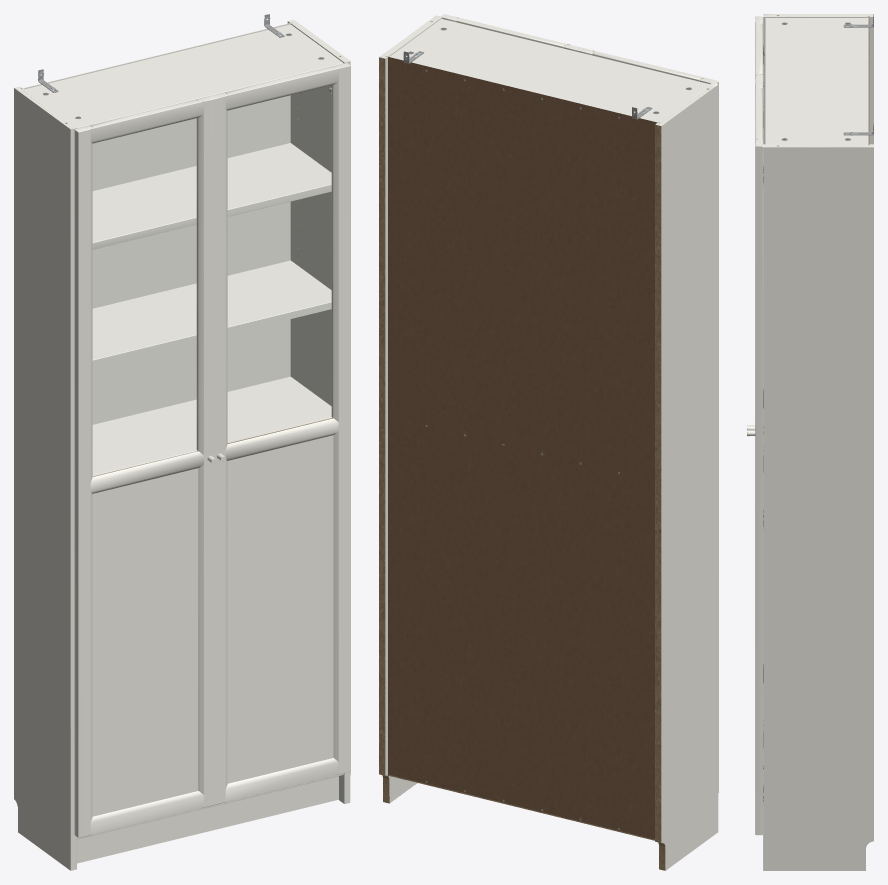
The model's file is 25 - BILLY OXBERG Bookcase with panelglass doors - white 80x30x202 cm.glb.
3 renders of one model, left to right at view 1: azimuth 30°, elevation 25°; view 2: azimuth 150°, elevation 25°; view 3: azimuth 270°, elevation 25°, orthographic. The views are drawn at different scales.
Visible parts, largest first — view 1: Mesh_0; view 2: Mesh_0; view 3: Mesh_0.
Part boxes in pixels (x1,y1,x2,y2): Mesh_0: (14,14,350,870); Mesh_0: (379,14,718,870); Mesh_0: (747,14,873,870).
Size of the model in its own units: 0.7981 by 2.05 by 0.3209.
2 materials, 1 textured.
